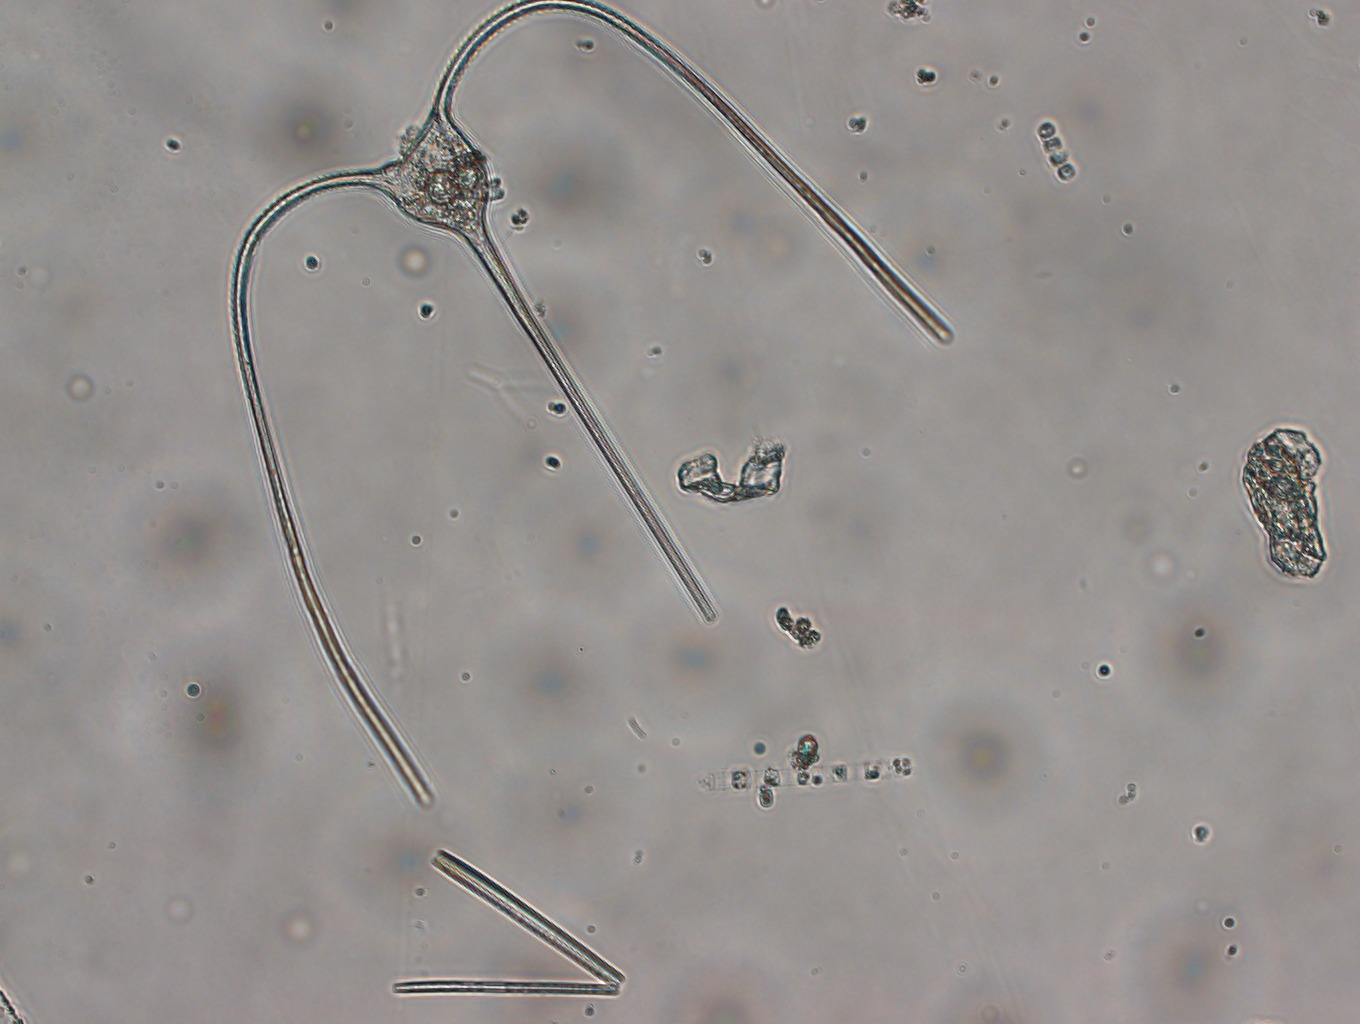ceratium trichoceros: (218, 1, 953, 809)
skeletonema: (690, 744, 918, 798), (1025, 103, 1080, 191)
thalassionema frauenfeldii: (387, 840, 633, 1005)
